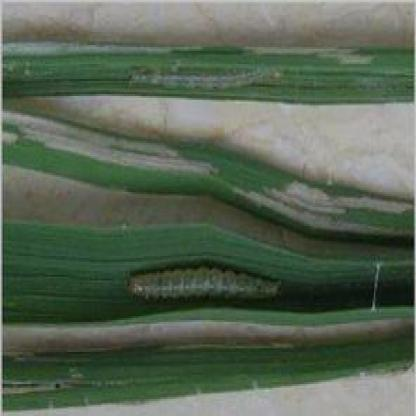leaf-folder: (122, 256, 280, 314), (120, 54, 291, 100)
